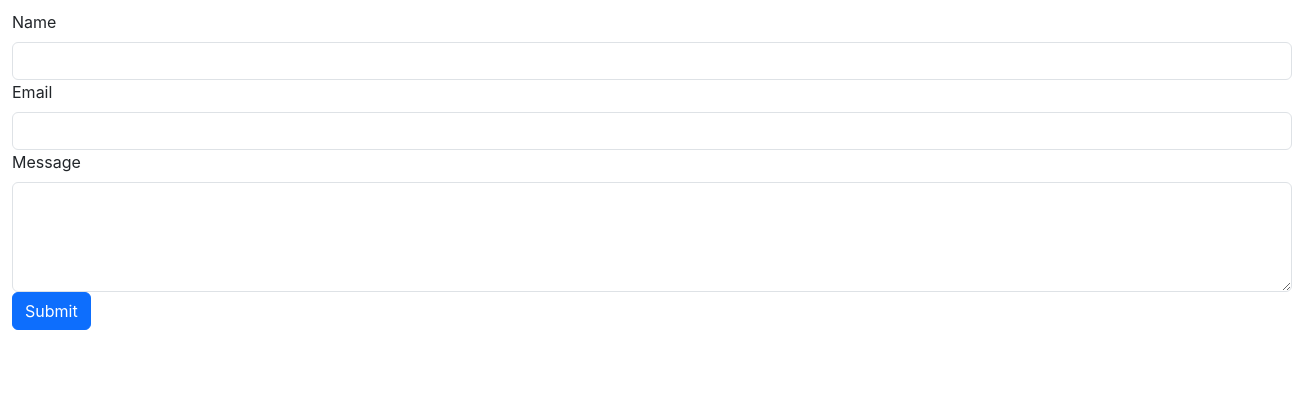
Test: ContactForm › displays success message on successful form submission
change the input values tp valid input using fireEvent change
Type "Apoorva" into the field labelled "Name".
click(652, 61); type("Apoorva")  # box [12, 42, 1292, 80]
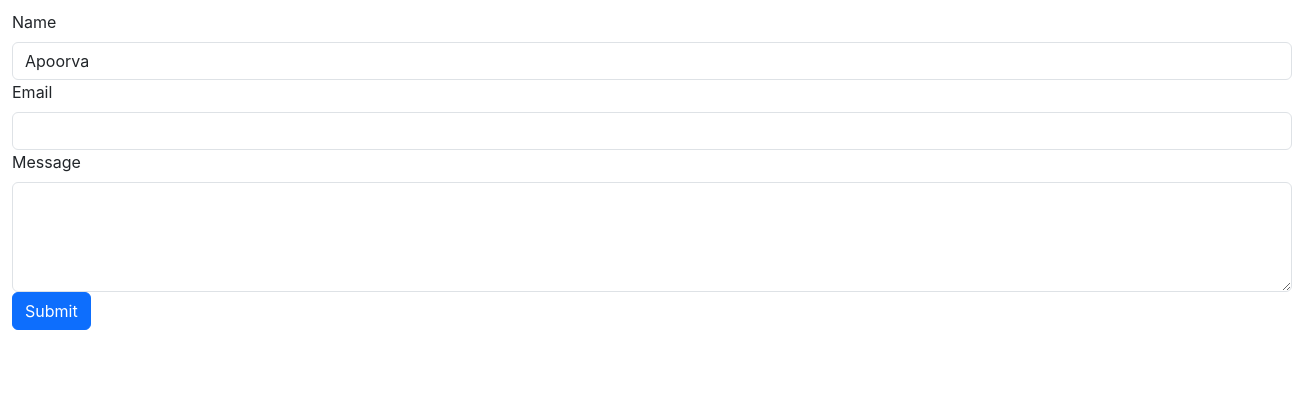
Type "Apoorva@gmail.com" into the field labelled "Email".
click(652, 131); type("Apoorva@gmail.com")  # box [12, 112, 1292, 150]
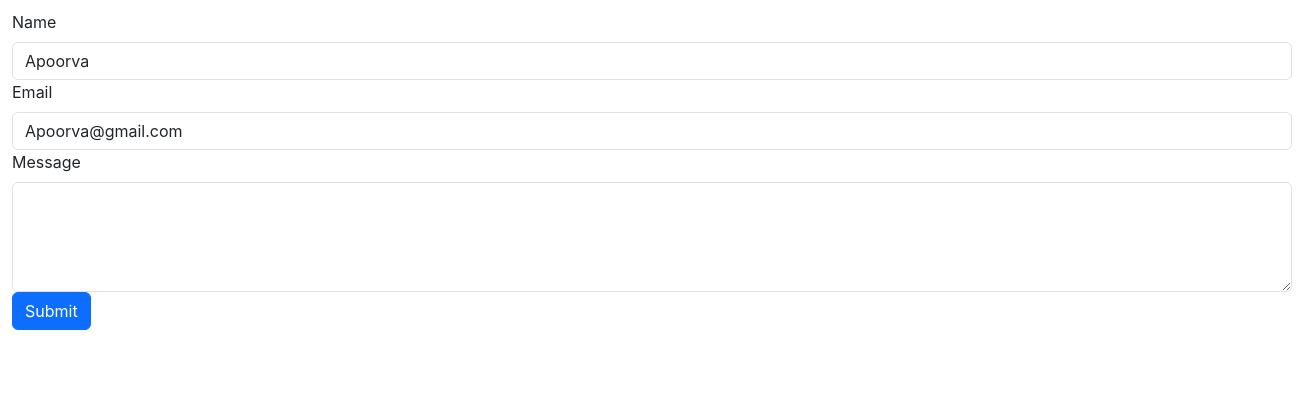
Type "Apoorva" into the text box labelled "Message".
click(652, 237); type("Apoorva")  # box [12, 182, 1292, 292]
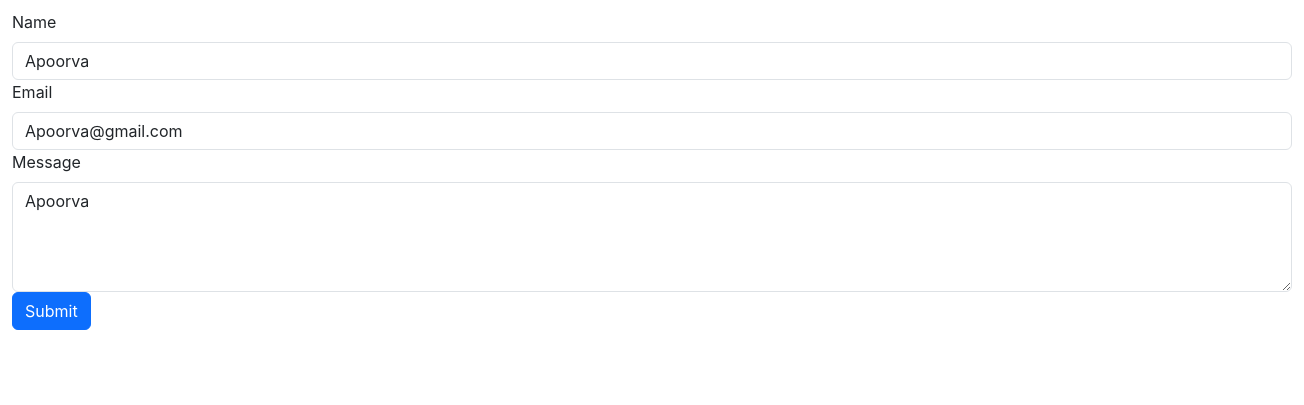
trigger submit using fireEvent
Click the button "Submit".
click(51, 311)  # box [12, 292, 91, 330]
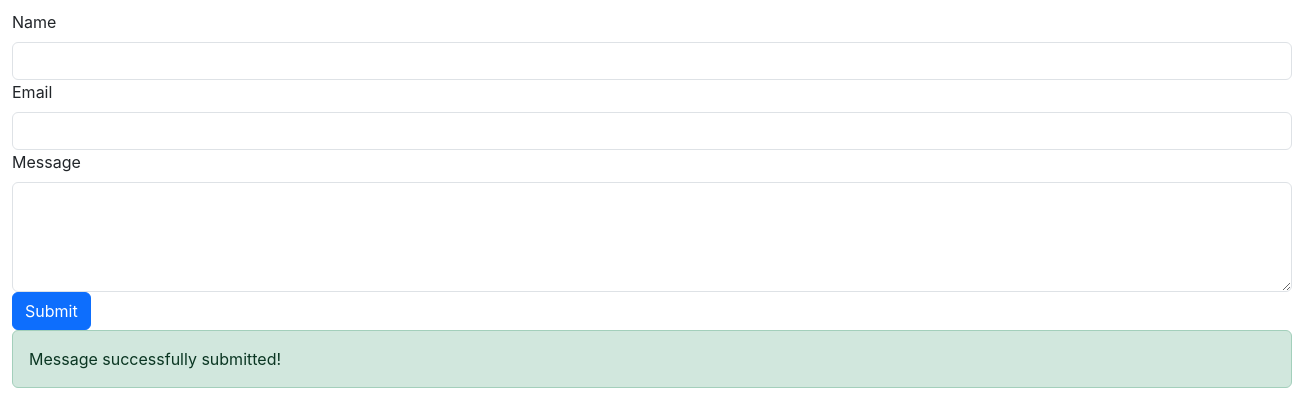
Result: the text "Message successfully submitted!" is shown at [12, 330, 1292, 388]
